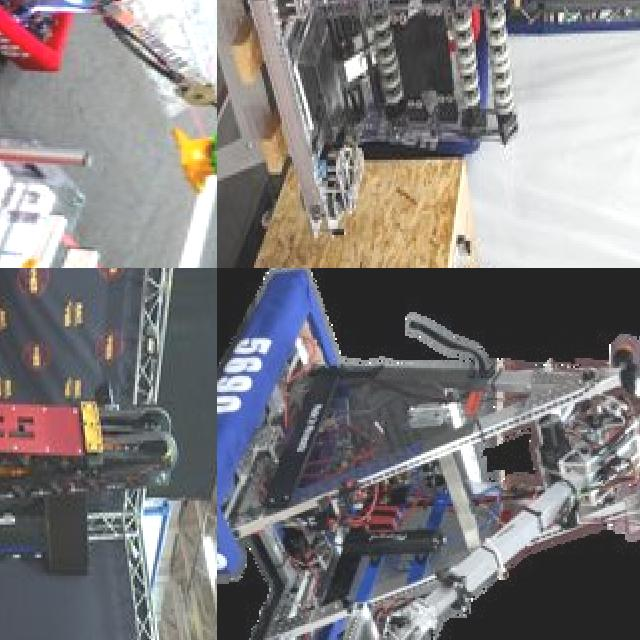FRC-Robots: (217, 268, 640, 640), (230, 0, 622, 211), (0, 268, 183, 640), (0, 0, 200, 88)
